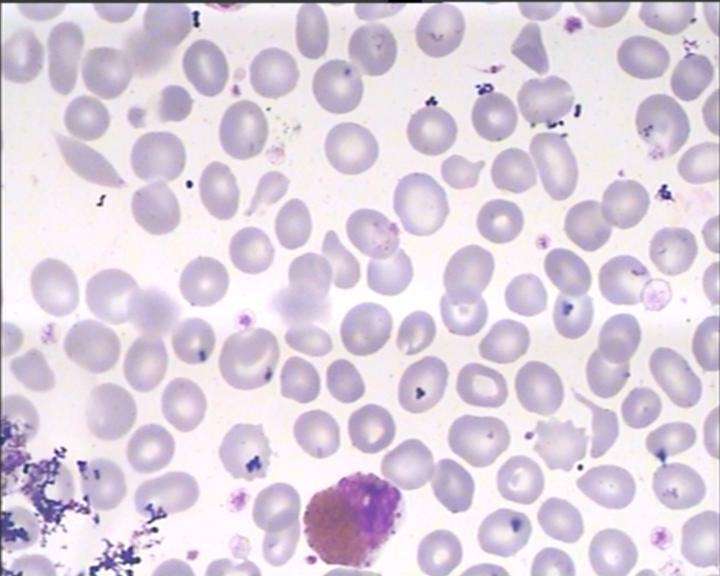eosi: (299, 469, 403, 568)
